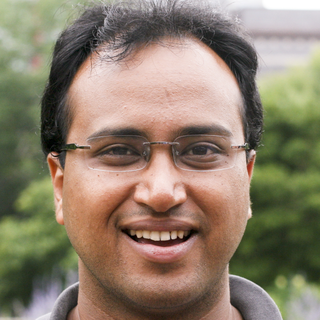eye: (176, 140, 226, 165), (95, 141, 145, 164)
